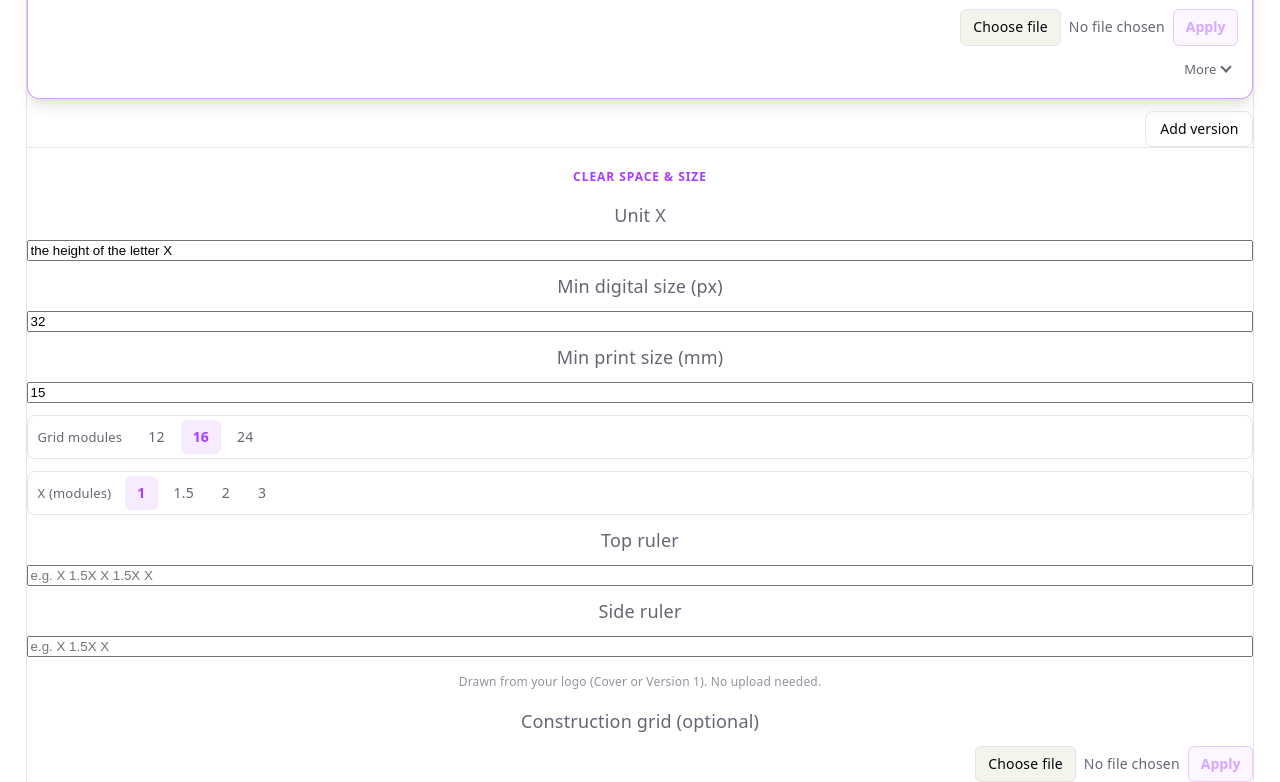
Test: Logo section – form › flags a size that is not a number greater than 0, as it is typed
(page scrolled)
Replace the text in the field labelled "Min print size (mm)" with "0" at (640, 393), box [27,382,1253,403]
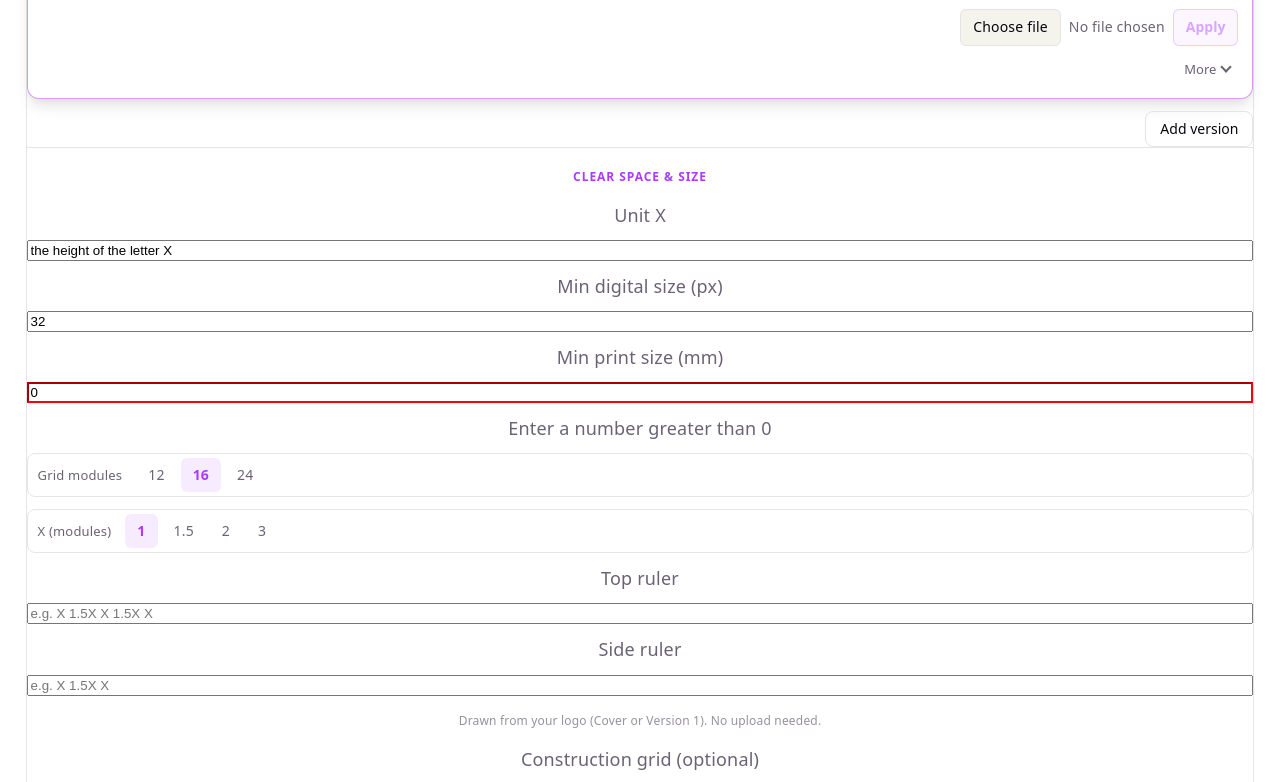
Expected: the text "Enter a number greater than 0" is shown, [508,416,772,440]
